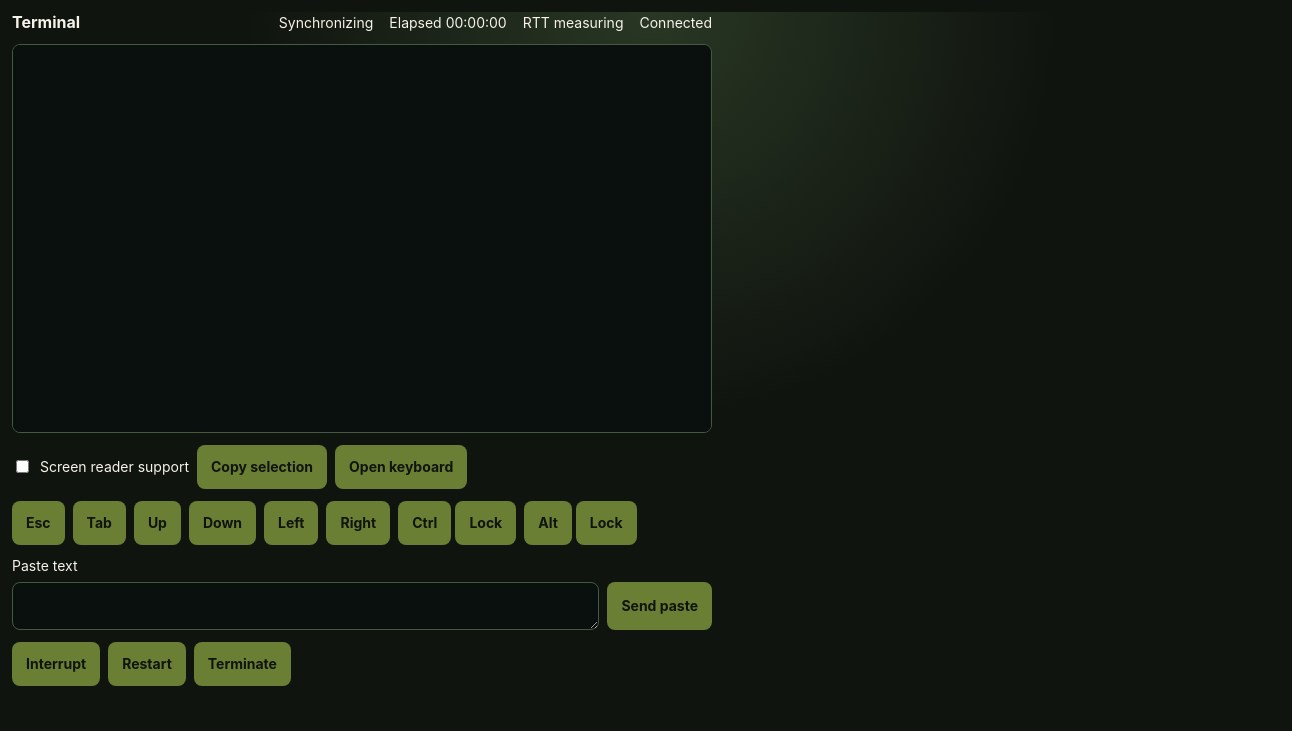
Test: Leash terminal in a real browser › renders only the immutable plain-text title through waiting, restart and exit
The width and height of the screenshot is (1292, 731).
Click the checkbox labelled "Screen reader support" at (22, 467), box [16,460,29,473]
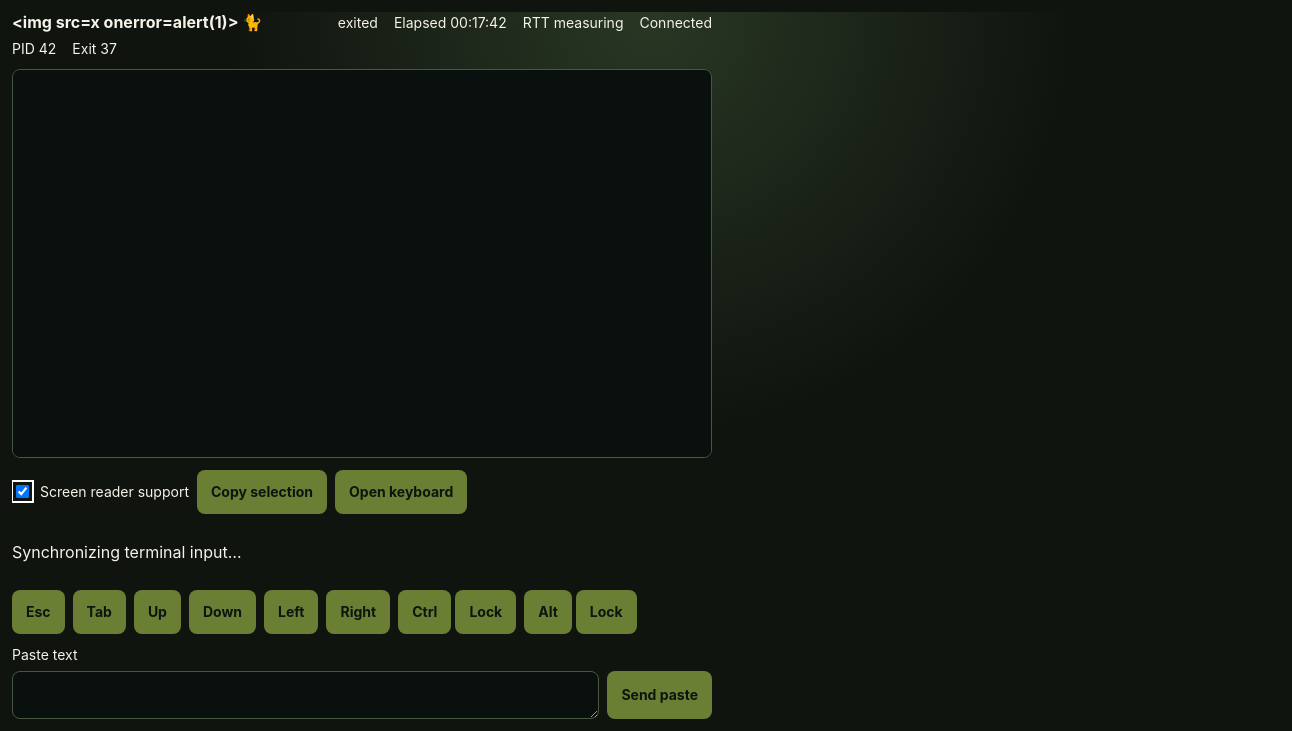
Now the text "<img src=x onerror=alert(1)> 🐈" is shown, box [12,12,262,32]
